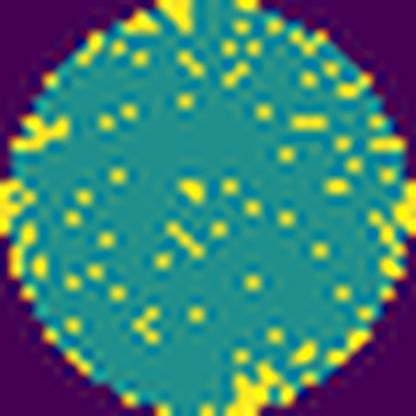Edge-Loc: (216, 359, 300, 416), (10, 109, 74, 157), (0, 169, 41, 235), (388, 177, 415, 233), (156, 0, 196, 34)
